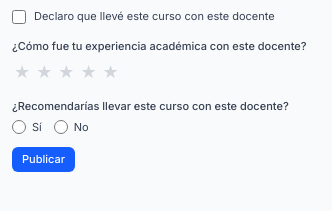
Test: ReviewDialog — publicar › muestra los errores de campo que devuelve el servidor
This screenshot has width=332, height=211.
Click the checkbox at (19, 17), box [12, 10, 26, 24]
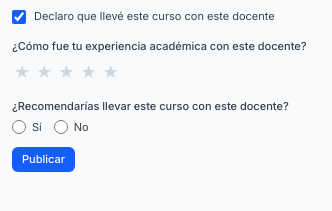
Click the radio button named "4 estrellas" at (88, 72), box [78, 58, 98, 86]
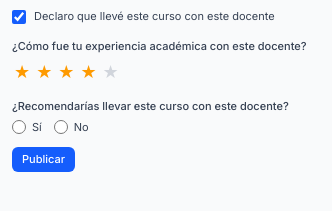
Click the radio button labelled "Sí" at (19, 127), box [12, 120, 26, 134]
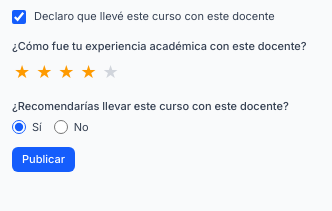
Click the button "Publicar" at (44, 160), box [12, 147, 75, 172]
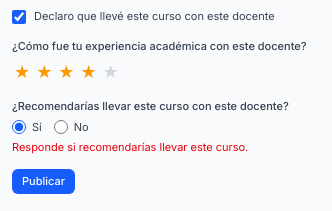
Now the text "Responde si recomendarías llevar este curso." is shown, box [12, 140, 248, 154]
